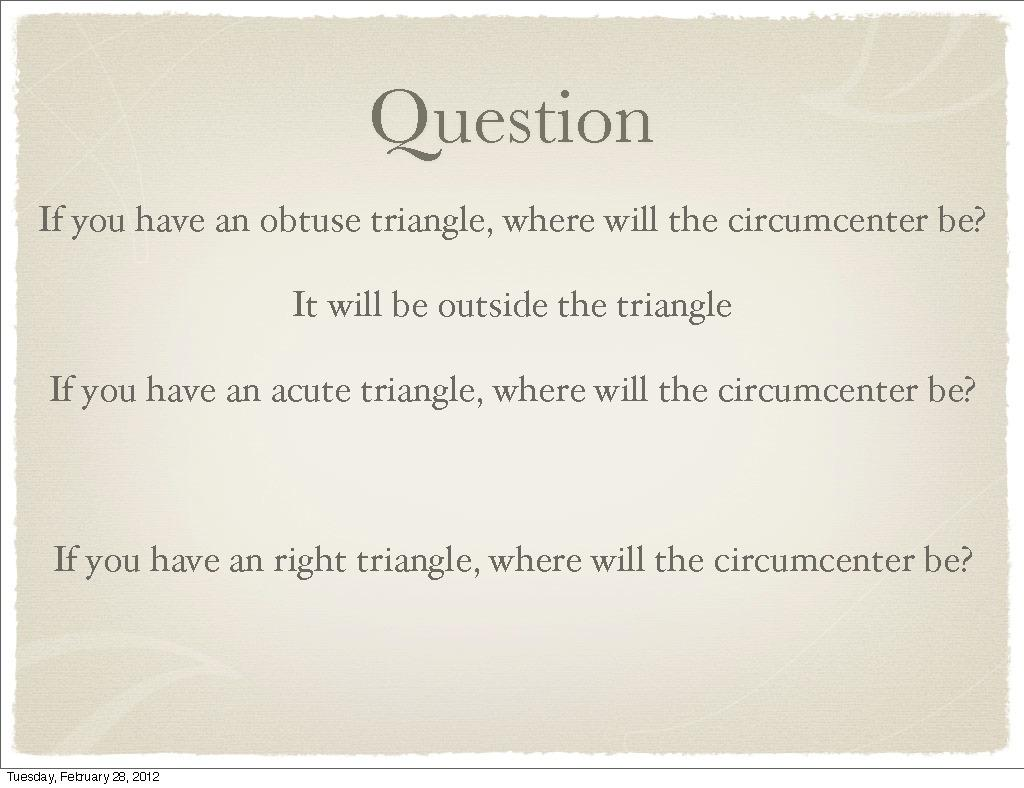paragraph: (23, 179, 1013, 642)
title: (365, 74, 683, 179)
